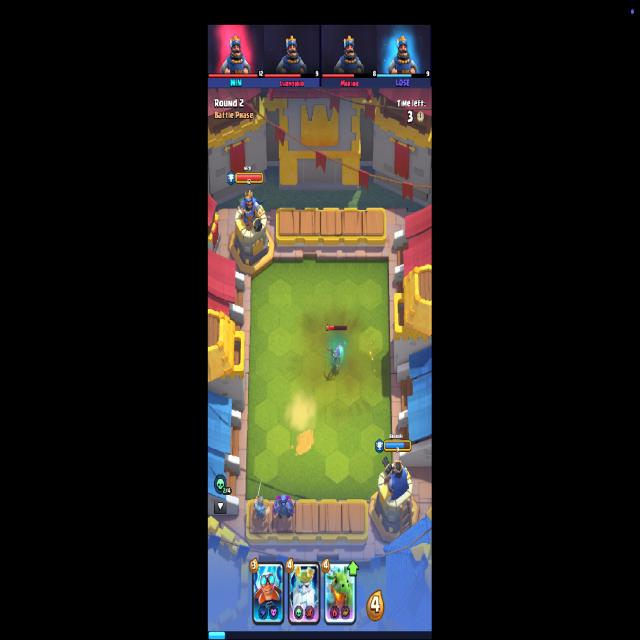archer_queen: (327, 341, 344, 376)
card_baby_drag: (324, 561, 356, 627)
card_e_wiz: (251, 560, 284, 627)
card_royal_ghost: (288, 562, 320, 626)
knight: (252, 478, 270, 526)
pekka: (272, 492, 298, 523)
